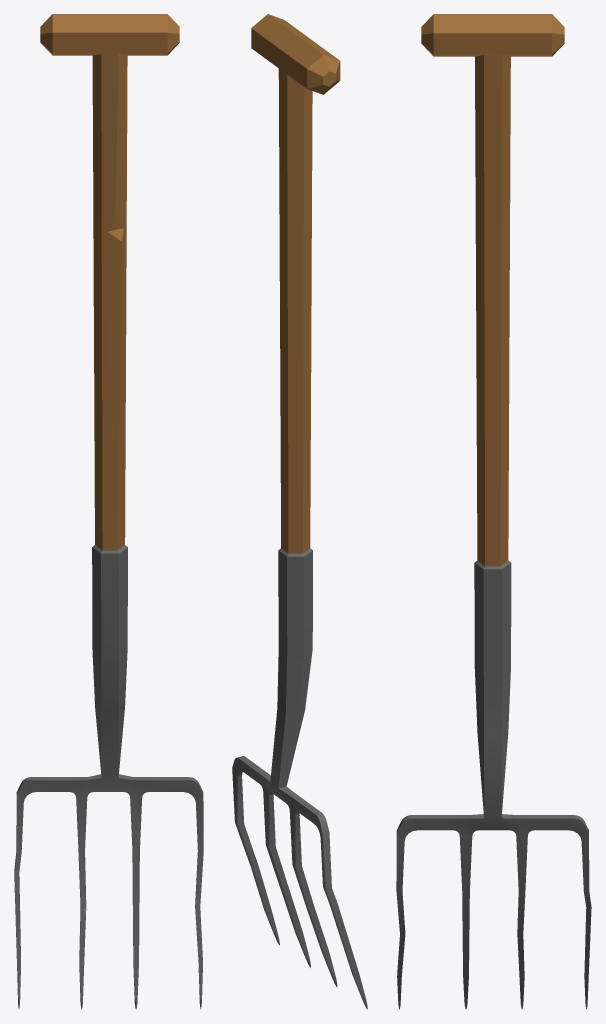
File: pitch-fork-by-j-toastie-uItEe89kUu.glb
The picture shows the model from 3 angles, left to right: view 1: azimuth 90°, elevation 25°; view 2: azimuth 210°, elevation 25°; view 3: azimuth 270°, elevation 25°; orthographic projection. The views are drawn at different scales.
Visible parts, largest first — view 1: PitchFork; view 2: PitchFork; view 3: PitchFork.
Part boxes in pixels (x1,y1,x2,y2): PitchFork: [14, 14, 203, 1009]; PitchFork: [232, 14, 367, 1009]; PitchFork: [396, 14, 591, 1009].
Bounding box in the file's own units: 0.0356 × 0.6541 × 0.1145.
